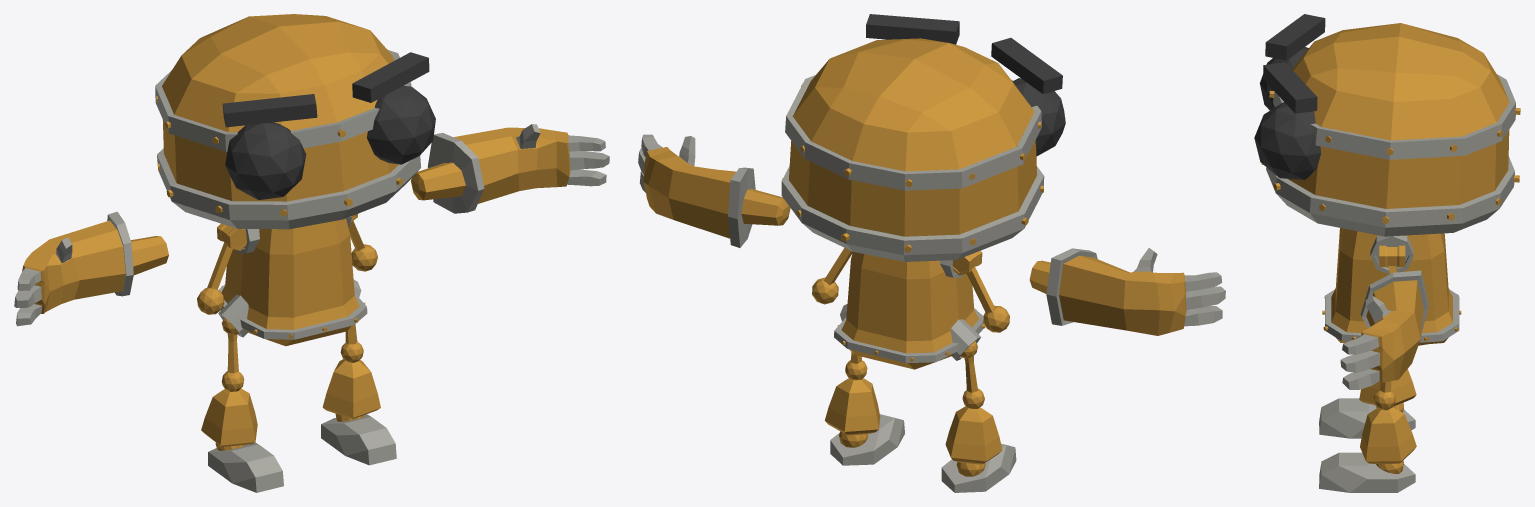
File: robot.glb
3 renders of one model, left to right at view 1: azimuth 30°, elevation 25°; view 2: azimuth 150°, elevation 25°; view 3: azimuth 270°, elevation 25°, orthographic.
Visible parts, largest first — view 1: Torso, Hand.R, Foot.L, Head; view 2: Torso, Hand.R, Foot.L, Head; view 3: Torso, Foot.L, Head, Hand.R.
Part boxes in pixels (bbox=[...]): Torso: bbox=[156, 14, 402, 450]; Hand.R: bbox=[14, 124, 609, 326]; Foot.L: bbox=[155, 50, 421, 492]; Head: bbox=[222, 52, 435, 200]; Torso: bbox=[782, 38, 1043, 476]; Hand.R: bbox=[638, 134, 1225, 335]; Foot.L: bbox=[781, 75, 1044, 492]; Head: bbox=[866, 14, 1065, 156]; Torso: bbox=[1261, 23, 1520, 473]; Foot.L: bbox=[1266, 74, 1515, 492]; Head: bbox=[1254, 14, 1325, 179]; Hand.R: bbox=[1340, 270, 1428, 389].
Bounding box in the file's own units: 6.62 × 4.5 × 2.62.
